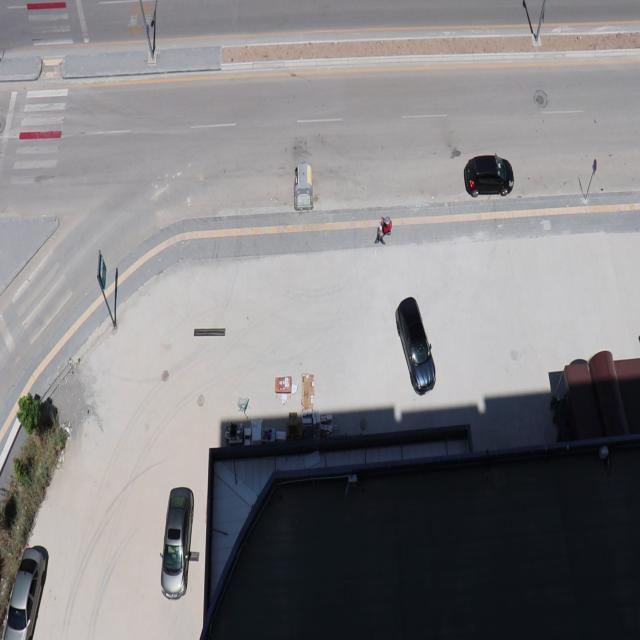vehicle: (0, 544, 48, 640), (396, 295, 436, 394), (160, 484, 193, 600), (464, 154, 514, 196), (373, 222, 385, 244)
